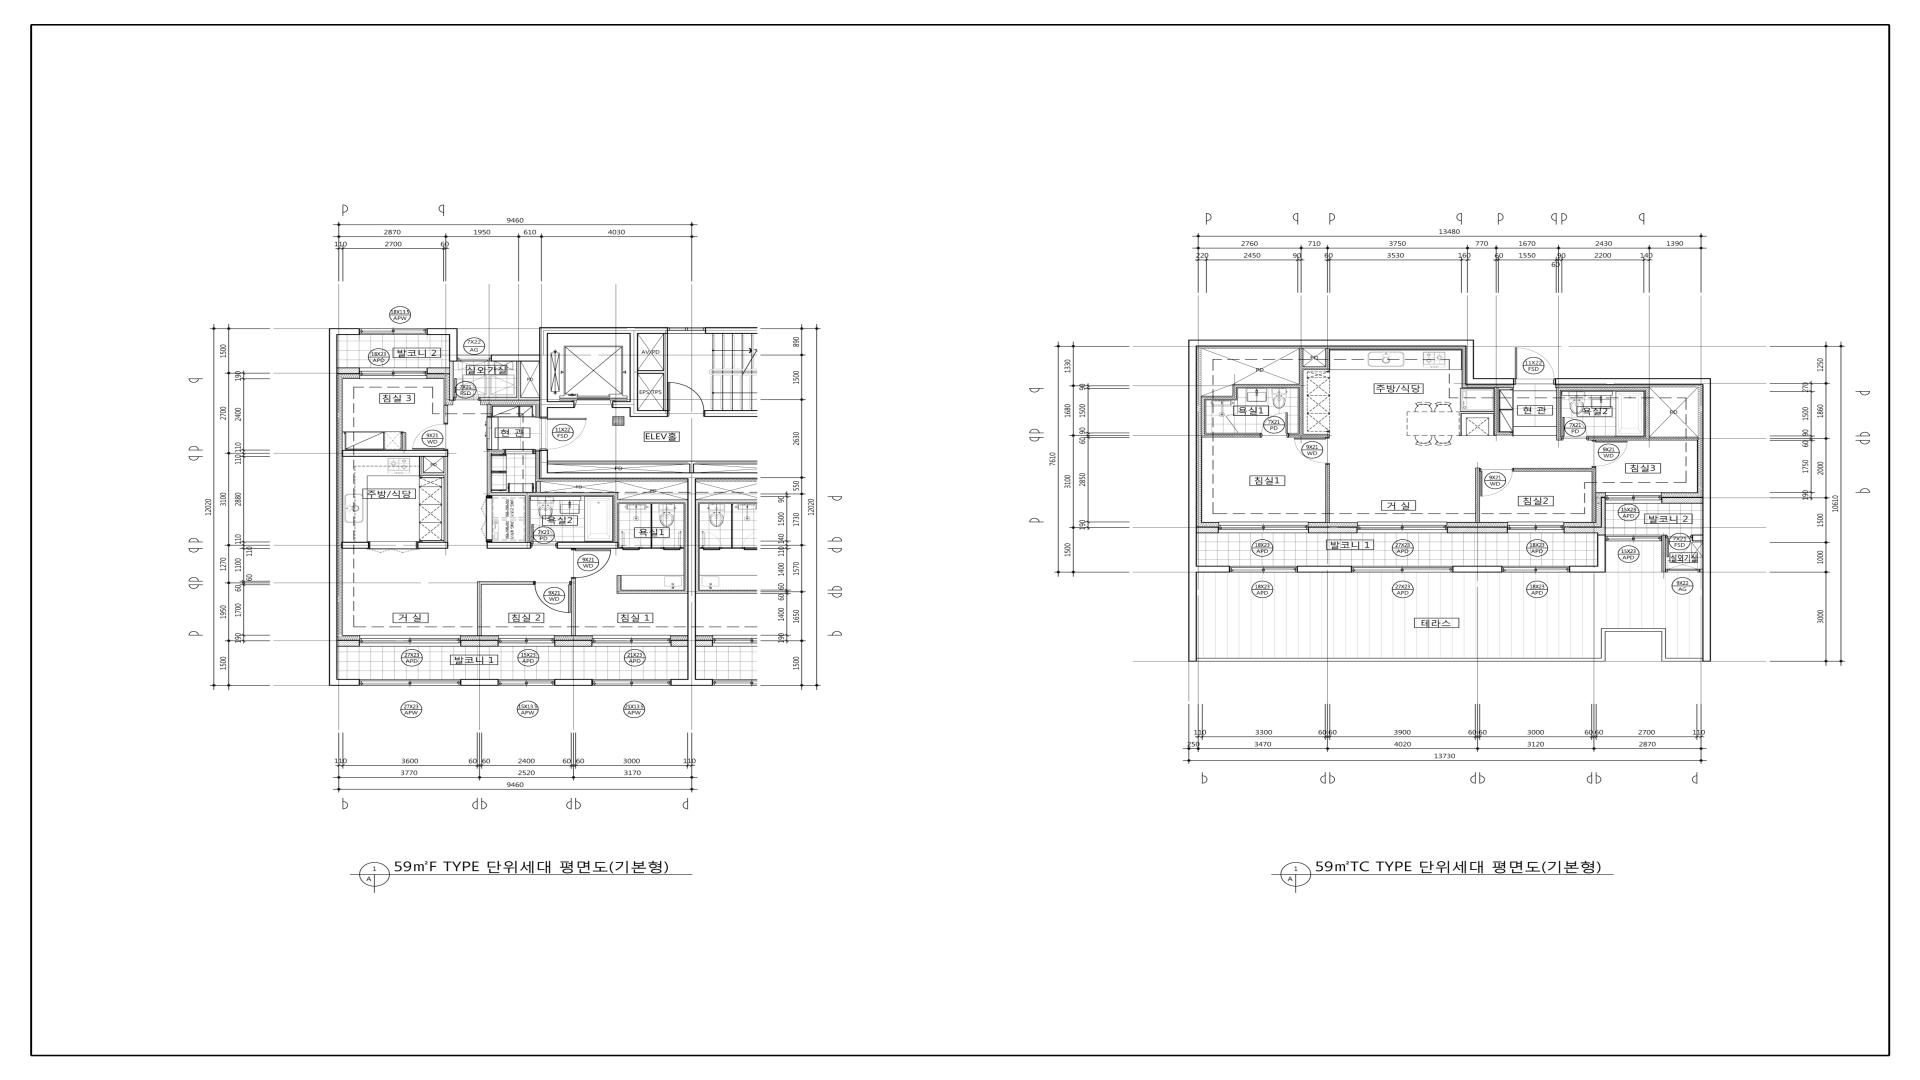door: (1514, 347, 1555, 385), (539, 418, 588, 450), (667, 382, 704, 417), (533, 580, 571, 613), (571, 549, 612, 579), (1480, 468, 1514, 496), (1294, 438, 1329, 464), (1592, 440, 1627, 467), (413, 423, 448, 450), (1261, 411, 1288, 438), (1665, 534, 1692, 558), (1561, 417, 1588, 440), (530, 524, 556, 547), (454, 378, 480, 401), (368, 541, 417, 553), (480, 496, 492, 542), (1225, 413, 1238, 433), (487, 417, 492, 450), (505, 450, 535, 454)
wall: (328, 335, 338, 679), (1188, 340, 1197, 572), (687, 479, 696, 679), (1197, 340, 1474, 347), (1702, 385, 1712, 572), (547, 472, 758, 480), (1555, 378, 1710, 385), (539, 327, 667, 334), (547, 460, 757, 464), (629, 334, 638, 410), (342, 450, 448, 456), (539, 334, 547, 418), (487, 492, 618, 496), (443, 456, 448, 542), (1588, 436, 1698, 440), (556, 542, 618, 549), (1447, 526, 1507, 533), (1298, 566, 1352, 572), (704, 327, 758, 334), (1556, 386, 1646, 390), (1597, 534, 1606, 572), (1465, 347, 1474, 385), (704, 410, 757, 417), (1299, 348, 1303, 434), (1564, 526, 1606, 534), (1453, 566, 1502, 572), (1308, 526, 1357, 533), (491, 355, 539, 361), (1514, 468, 1592, 472), (663, 334, 667, 410), (571, 579, 576, 636), (487, 542, 530, 549), (1662, 497, 1702, 504), (1556, 390, 1561, 440), (1474, 378, 1514, 385), (1233, 384, 1299, 388), (621, 589, 687, 593), (554, 640, 592, 646), (460, 679, 498, 686), (554, 679, 592, 686), (629, 410, 667, 417), (460, 640, 498, 646), (480, 397, 539, 401), (684, 502, 687, 591), (1325, 464, 1329, 522), (539, 450, 547, 479), (1592, 467, 1596, 522), (1205, 434, 1261, 438), (477, 582, 533, 585), (1476, 468, 1480, 522), (1197, 566, 1229, 572), (417, 542, 448, 549), (328, 679, 360, 686), (450, 335, 458, 361), (328, 328, 360, 335), (477, 584, 481, 636), (427, 328, 458, 335), (1646, 386, 1650, 436), (1494, 386, 1498, 435), (617, 500, 687, 502), (1569, 566, 1597, 572), (525, 496, 529, 542), (547, 401, 575, 407), (615, 496, 618, 542), (342, 542, 368, 549), (487, 450, 491, 493), (671, 679, 696, 686), (1288, 434, 1329, 438), (1601, 497, 1606, 527), (426, 368, 450, 375), (450, 361, 454, 401), (1201, 400, 1205, 438), (338, 368, 360, 375), (338, 640, 360, 646), (1662, 535, 1665, 572), (517, 361, 521, 397), (1197, 526, 1218, 533), (1201, 396, 1233, 400), (612, 401, 629, 407), (1303, 367, 1331, 371), (638, 371, 663, 375), (1325, 348, 1331, 367), (670, 641, 687, 646), (1692, 534, 1702, 542), (423, 472, 443, 476), (419, 456, 423, 476), (617, 575, 621, 593), (443, 405, 447, 423), (402, 433, 406, 450), (1498, 431, 1513, 435), (491, 450, 505, 454), (1233, 388, 1237, 400), (487, 405, 491, 417), (690, 464, 694, 472), (1237, 400, 1238, 413), (1700, 568, 1702, 572)
window: (360, 636, 460, 646), (1218, 522, 1308, 533), (1357, 522, 1447, 533), (592, 636, 670, 646), (360, 368, 427, 378), (1352, 566, 1453, 572), (360, 679, 460, 686), (1606, 492, 1662, 504), (1507, 522, 1564, 533), (498, 636, 554, 646), (592, 679, 671, 686), (359, 328, 427, 335), (1502, 566, 1569, 572), (1230, 566, 1298, 572), (498, 679, 554, 686), (1606, 535, 1662, 541), (458, 355, 492, 361), (1665, 568, 1700, 572)
